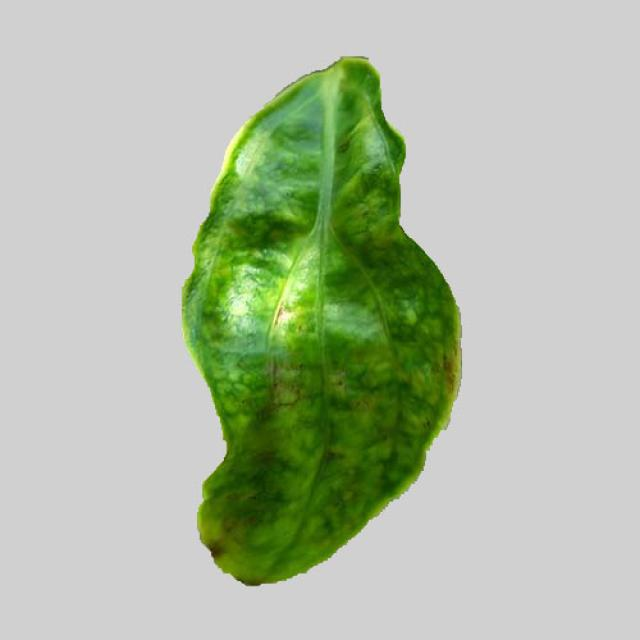yellow-mottle-virus: (151, 68, 494, 591)
